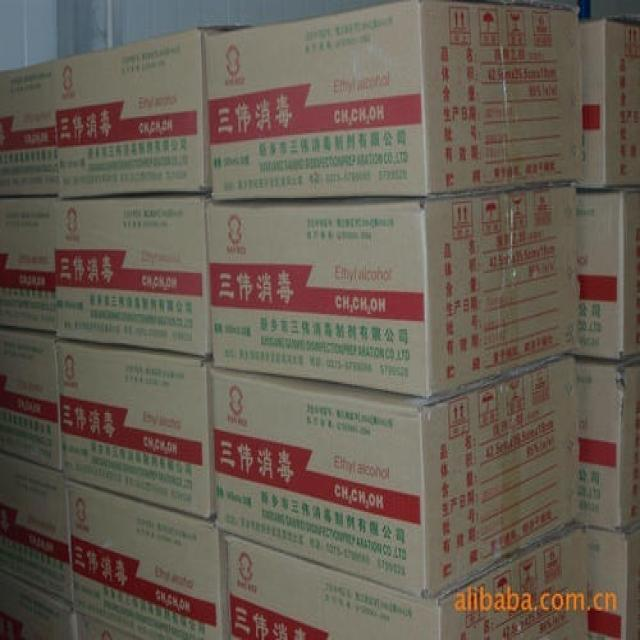box: (214, 355, 581, 599), (210, 183, 581, 399), (205, 0, 585, 201), (225, 522, 589, 640), (52, 26, 256, 196), (56, 340, 216, 519), (68, 480, 229, 638), (55, 195, 212, 357), (567, 186, 640, 360), (0, 451, 76, 608), (573, 357, 640, 531), (579, 10, 640, 191), (0, 60, 59, 196), (0, 195, 58, 329), (586, 522, 640, 638), (0, 570, 81, 640)
